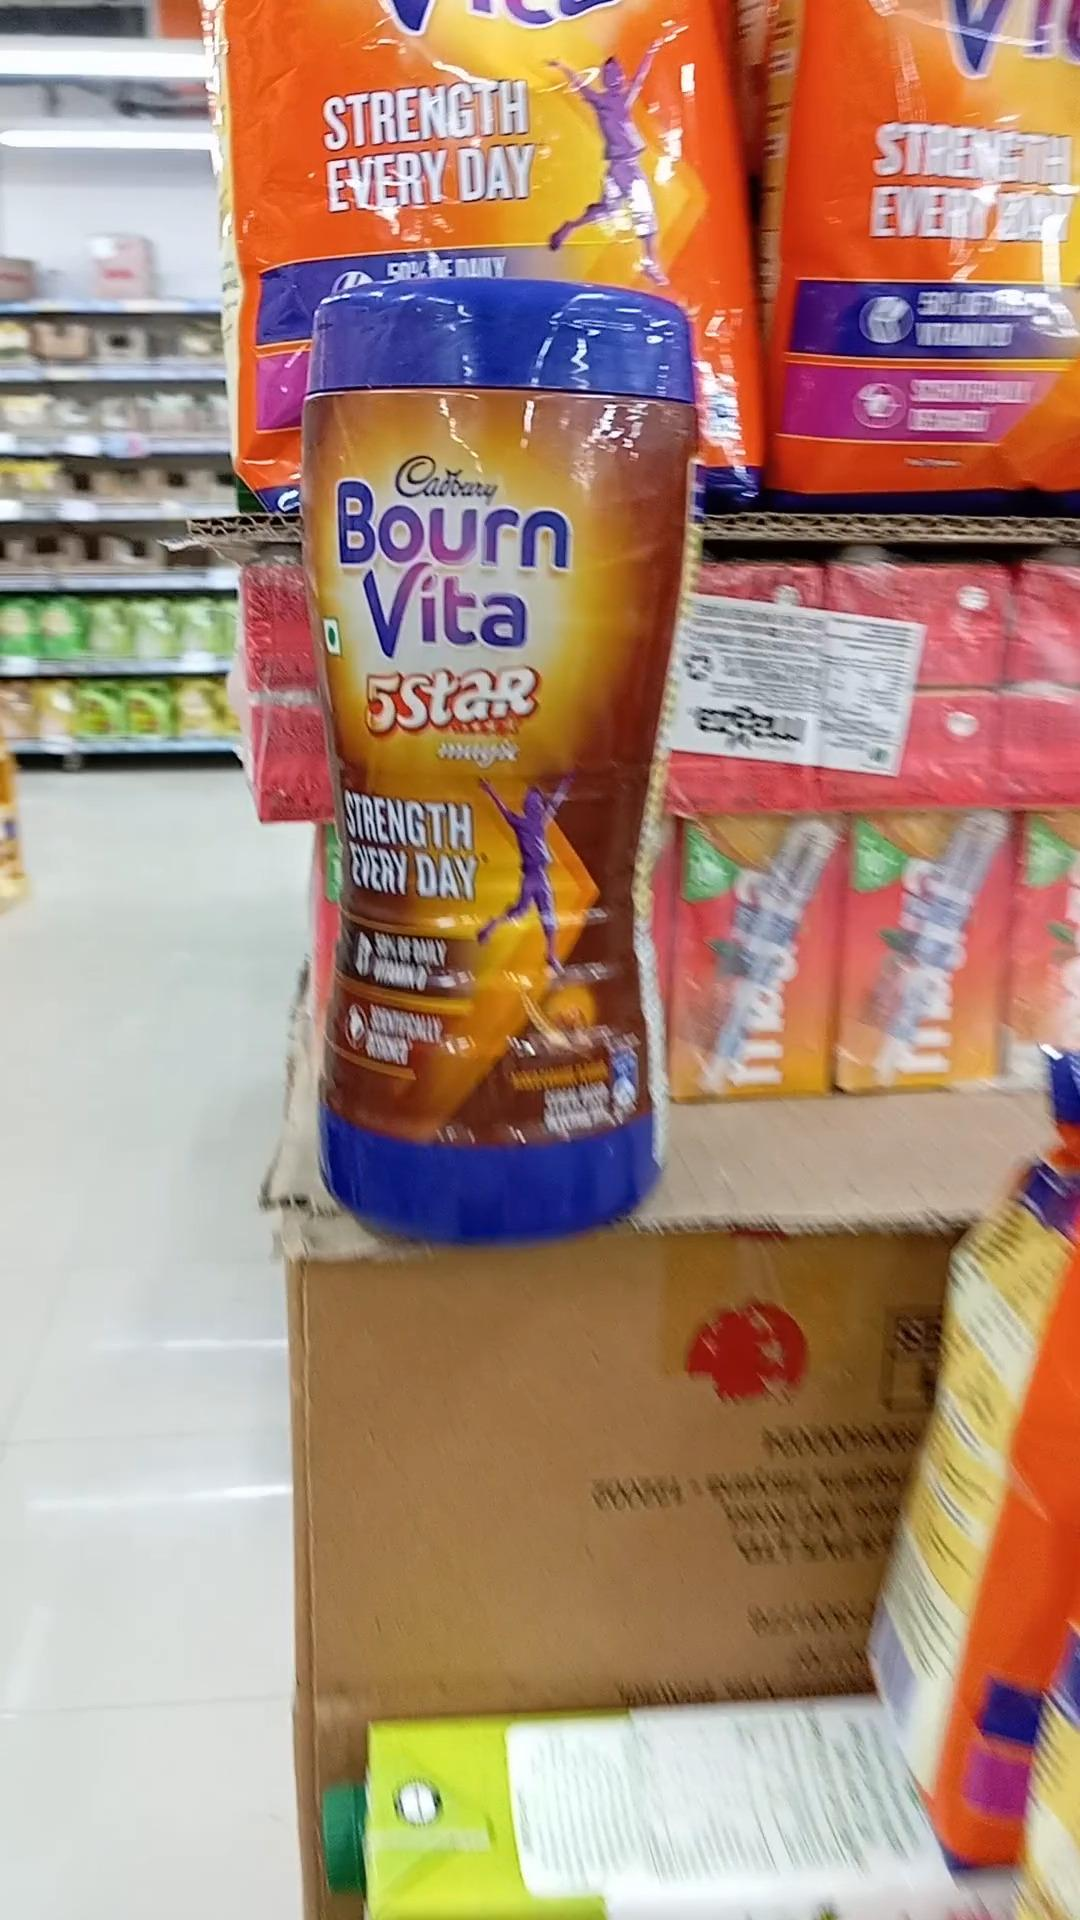BOURN_VITA_FIVE_STAR_MAGIC_500_G_JAR: (310, 276, 680, 1240)
